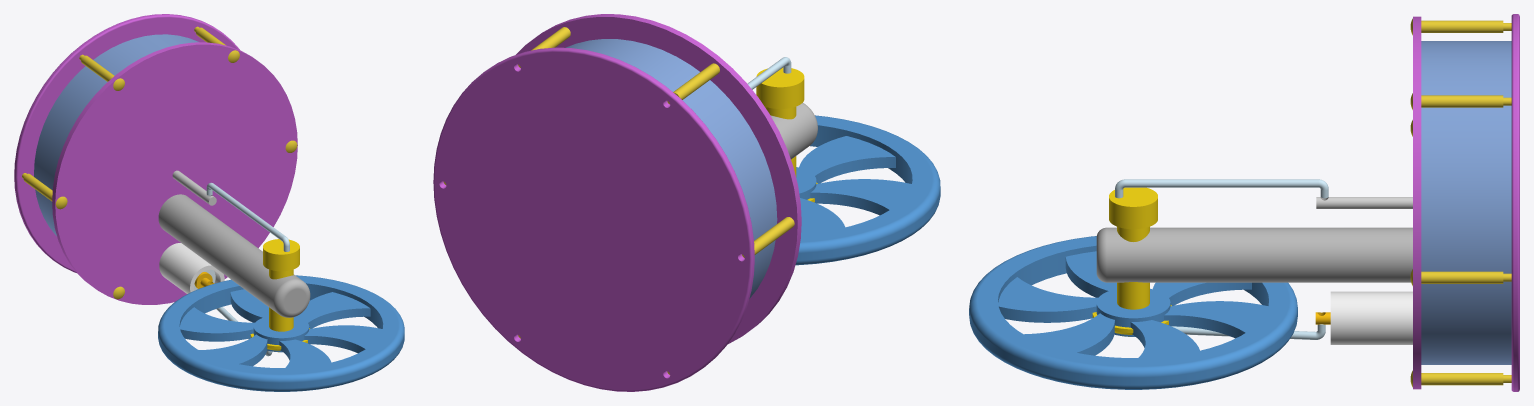
The model's file is stirling.glb.
3 renders of one model, left to right at view 1: azimuth 30°, elevation 25°; view 2: azimuth 150°, elevation 25°; view 3: azimuth 270°, elevation 25°, orthographic. The views are drawn at different scales.
Parts seen in each view (by area): view 1: UPPERPLATE, Part 1, LOWERPLATE, FLYWHEELPOST, GLASSSLEVE, PISTONSLEVE, HUB, LOWERPIN (×3), CONNECTING ROD REAR, ROD DISPLACER; view 2: LOWERPLATE, Part 1, UPPERPLATE, GLASSSLEVE, HUB, FLYWHEELPOST, LOWERPIN (×2), CONNECTING ROD REAR; view 3: Part 1, GLASSSLEVE, FLYWHEELPOST, LOWERPIN (×4), PISTONSLEVE, LOWERPLATE, UPPERPLATE, HUB, CONNECTING ROD REAR, ROD DISPLACER, CONNECTINGRODFRONT.
Part boxes in pixels (<box>): UPPERPLATE: <box>52,42,297,304</box>; Part 1: <box>158,275,404,391</box>; LOWERPLATE: <box>14,14,240,272</box>; FLYWHEELPOST: <box>158,194,310,317</box>; GLASSSLEVE: <box>34,34,198,235</box>; PISTONSLEVE: <box>159,243,224,293</box>; HUB: <box>250,239,309,352</box>; LOWERPIN (×3): <box>22,26,239,209</box>; CONNECTING ROD REAR: <box>206,182,289,251</box>; ROD DISPLACER: <box>172,170,216,205</box>; LOWERPLATE: <box>433,47,754,391</box>; Part 1: <box>795,115,940,265</box>; UPPERPLATE: <box>516,14,801,344</box>; GLASSSLEVE: <box>565,39,777,298</box>; HUB: <box>756,67,817,202</box>; FLYWHEELPOST: <box>770,103,817,159</box>; LOWERPIN (×2): <box>667,63,794,257</box>; CONNECTING ROD REAR: <box>747,57,791,89</box>; Part 1: <box>969,236,1297,389</box>; GLASSSLEVE: <box>1421,41,1511,364</box>; FLYWHEELPOST: <box>1096,227,1412,282</box>; LOWERPIN (×4): <box>1410,18,1511,387</box>; PISTONSLEVE: <box>1330,291,1412,344</box>; LOWERPLATE: <box>1511,14,1519,391</box>; UPPERPLATE: <box>1413,16,1421,389</box>; HUB: <box>1092,187,1171,336</box>; CONNECTING ROD REAR: <box>1115,179,1328,198</box>; ROD DISPLACER: <box>1316,197,1412,208</box>; CONNECTINGRODFRONT: <box>1171,324,1325,339</box>.
Bounding box in the file's own units: 0.092 × 0.0919 × 0.134.
